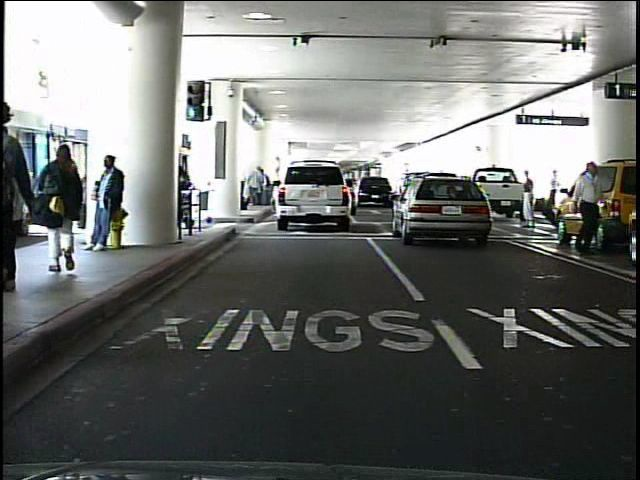person: (37, 140, 88, 274), (90, 151, 128, 254), (572, 158, 607, 259), (519, 170, 538, 231), (552, 168, 562, 211)
